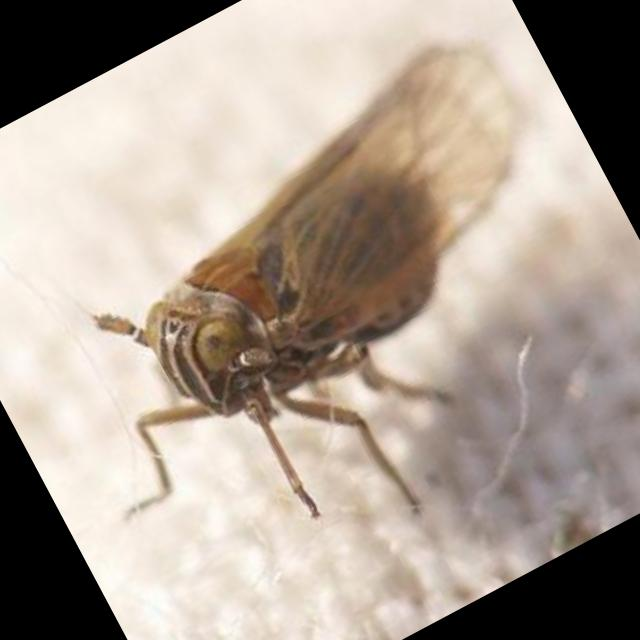brown-planthopper: (94, 41, 516, 515)
